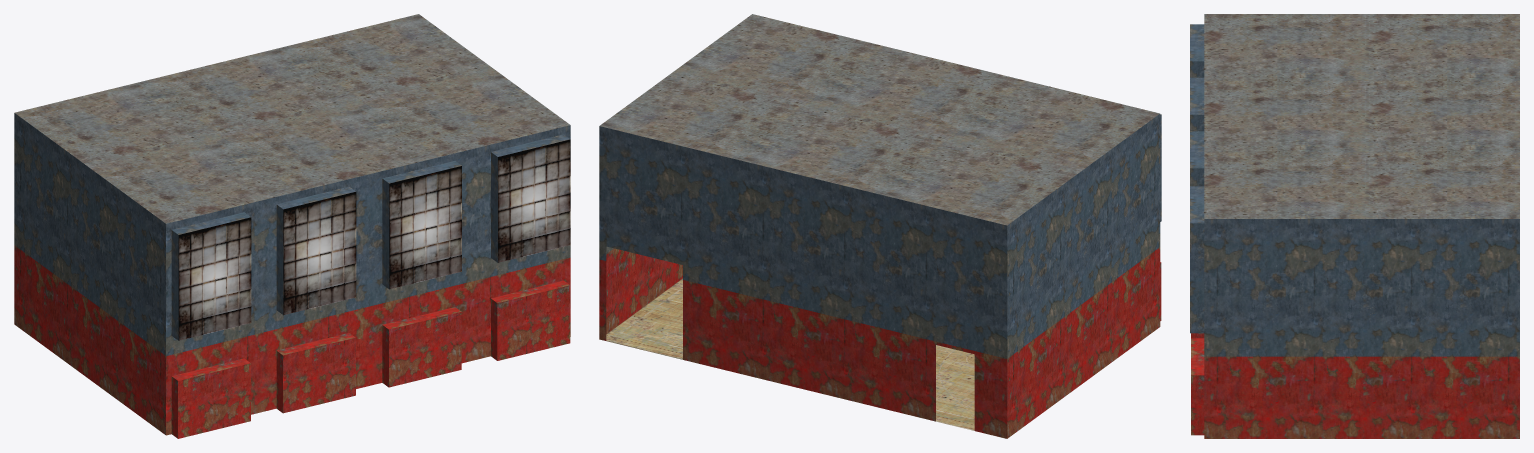
Rendered from _SportsHall.FBX.
3 renders of one model, left to right at view 1: azimuth 30°, elevation 25°; view 2: azimuth 150°, elevation 25°; view 3: azimuth 270°, elevation 25°, orthographic. The views are drawn at different scales.
Parts seen in each view (by area): view 1: _SportsHall; view 2: _SportsHall; view 3: _SportsHall.
Boxes of the visible parts, x1,y1,x2,y2 form: _SportsHall: (14,14,570,438); _SportsHall: (599,14,1161,438); _SportsHall: (1190,14,1519,438).
Bounding box in the file's own units: 1001 × 500 × 680.
Materials: 11 (11 with a texture image).
